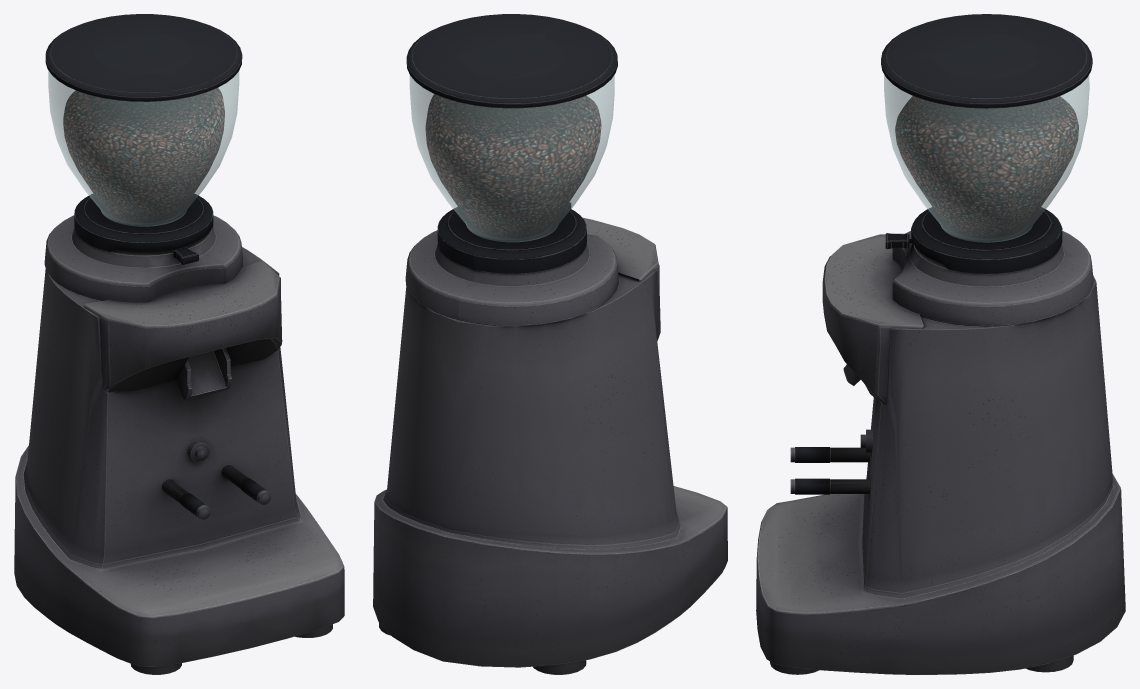
Rendered from coffee_grinder.glb.
3 renders of one model, left to right at view 1: azimuth 30°, elevation 25°; view 2: azimuth 150°, elevation 25°; view 3: azimuth 270°, elevation 25°, orthographic. The views are drawn at different scales.
Parts seen in each view (by area): view 1: coffee_grinder_mesh_Untitled.001, coffee_grinder_glass_mesh_Untitled; view 2: coffee_grinder_mesh_Untitled.001, coffee_grinder_glass_mesh_Untitled; view 3: coffee_grinder_mesh_Untitled.001, coffee_grinder_glass_mesh_Untitled.
Boxes of the visible parts, x1,y1,x2,y2 form: coffee_grinder_mesh_Untitled.001: [14, 14, 344, 674]; coffee_grinder_glass_mesh_Untitled: [48, 70, 239, 226]; coffee_grinder_mesh_Untitled.001: [373, 14, 727, 674]; coffee_grinder_glass_mesh_Untitled: [409, 75, 614, 242]; coffee_grinder_mesh_Untitled.001: [756, 14, 1125, 674]; coffee_grinder_glass_mesh_Untitled: [884, 74, 1089, 242].
Size of the model in its own units: 0.2084 by 0.4306 by 0.2543.
2 materials, 2 textured.
